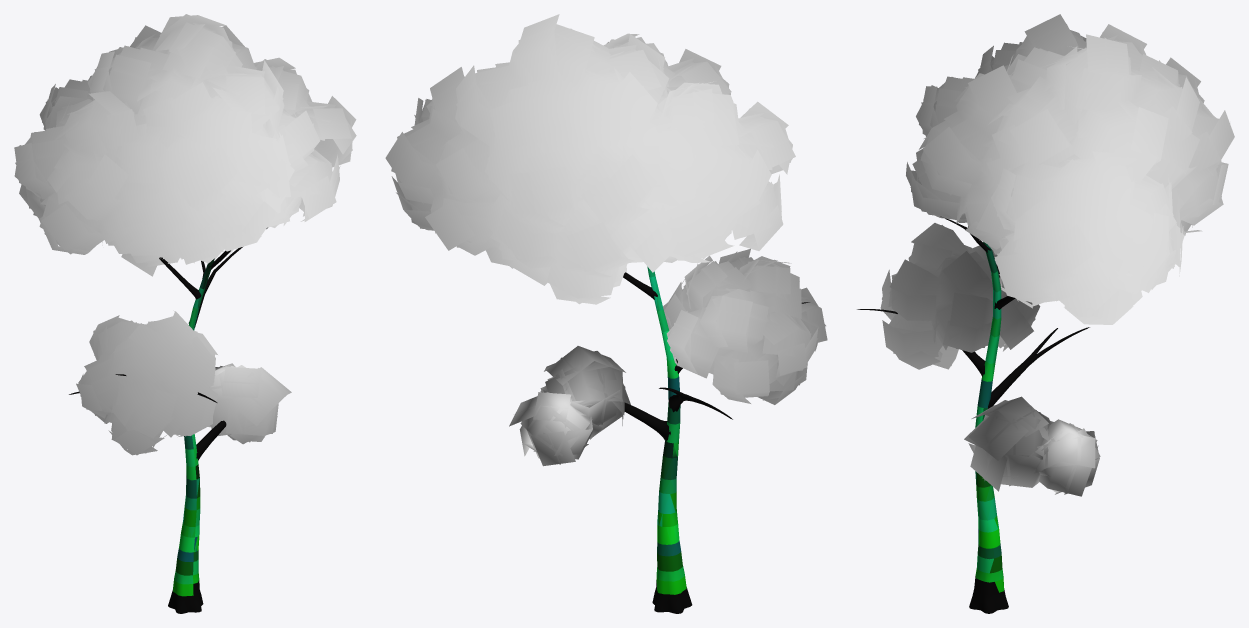
File: SM_tree_maple_02.fbx
3 renders of one model, left to right at view 1: azimuth 30°, elevation 25°; view 2: azimuth 150°, elevation 25°; view 3: azimuth 270°, elevation 25°, orthographic. The views are drawn at different scales.
Visible parts, largest first — view 1: Tree_a01; view 2: Tree_a01; view 3: Tree_a01.
Part boxes in pixels (bbox=[...]): Tree_a01: bbox=[14, 14, 356, 613]; Tree_a01: bbox=[385, 14, 827, 613]; Tree_a01: bbox=[857, 14, 1234, 613].
Bounding box in the file's own units: 152 × 247 × 141.
